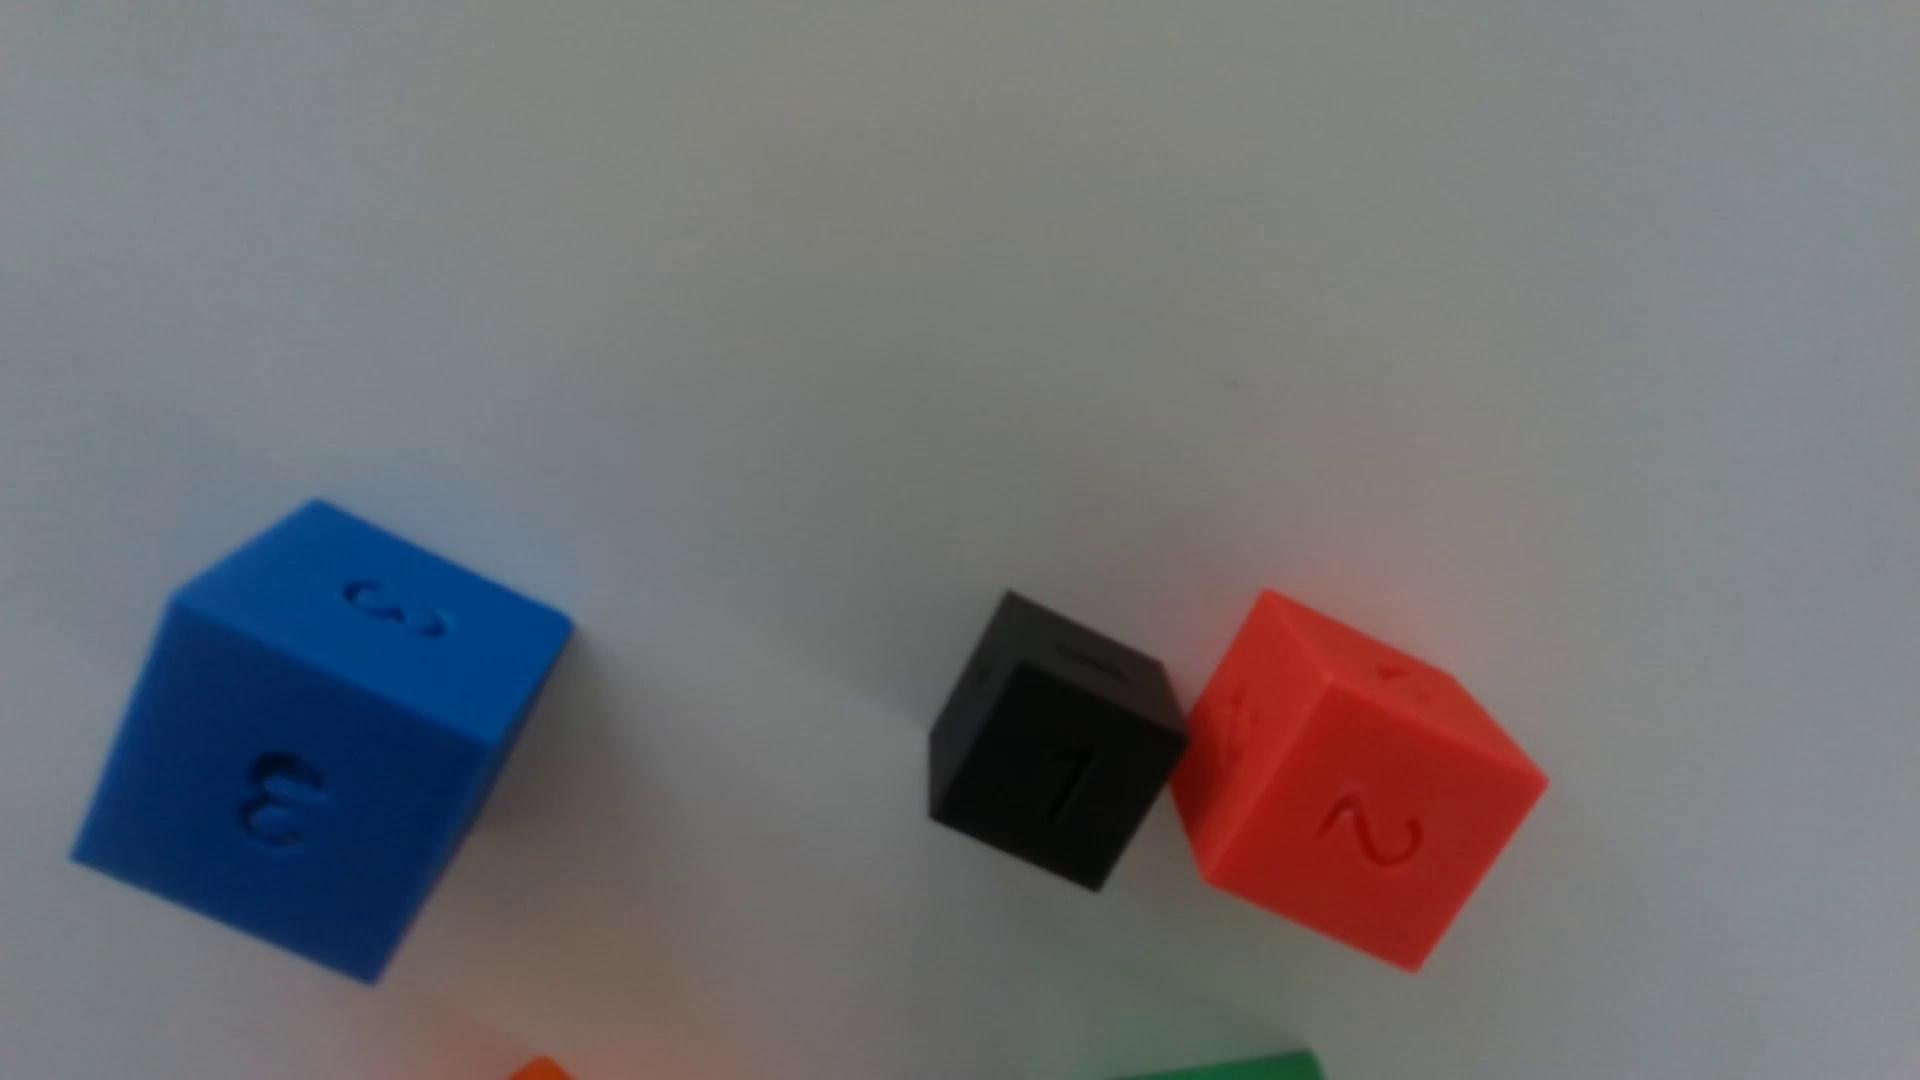black: (927, 593, 1187, 891)
blue: (73, 502, 572, 982)
green: (1129, 1050, 1325, 1080)
orange: (506, 1055, 574, 1080)
red: (1171, 592, 1547, 971)
